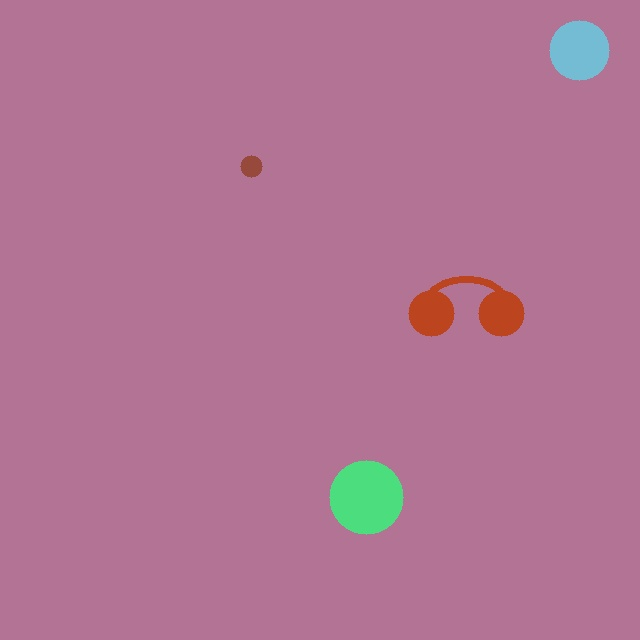over_ear: (404, 265, 528, 340)
